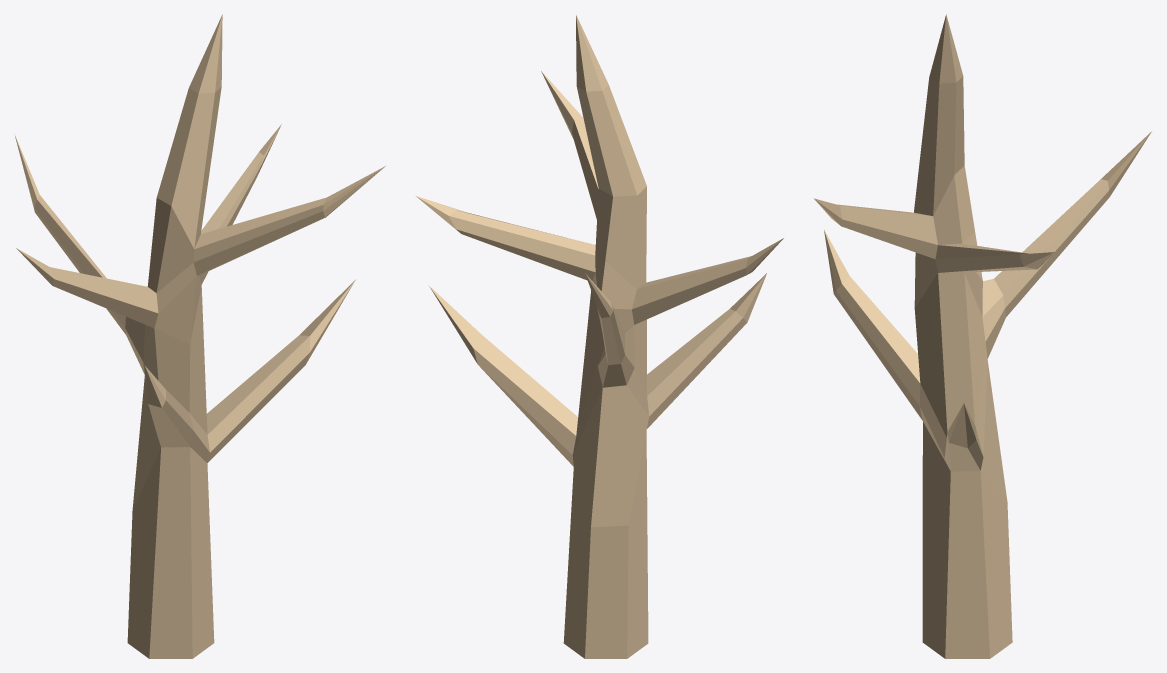
Rendered from DeadTree3.fbx.
3 renders of one model, left to right at view 1: azimuth 30°, elevation 25°; view 2: azimuth 150°, elevation 25°; view 3: azimuth 270°, elevation 25°, orthographic. The views are drawn at different scales.
Parts seen in each view (by area): view 1: Cylinder; view 2: Cylinder; view 3: Cylinder.
Boxes of the visible parts, x1,y1,x2,y2 form: Cylinder: (14, 14, 385, 658); Cylinder: (416, 15, 783, 658); Cylinder: (814, 14, 1151, 658).
Bounding box in the file's own units: 3.86 × 6.56 × 3.1.
